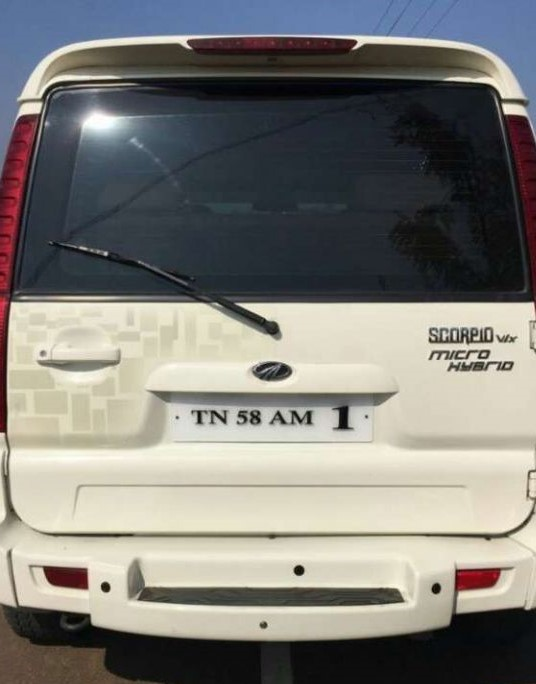TN58AM1: (170, 390, 372, 441)
